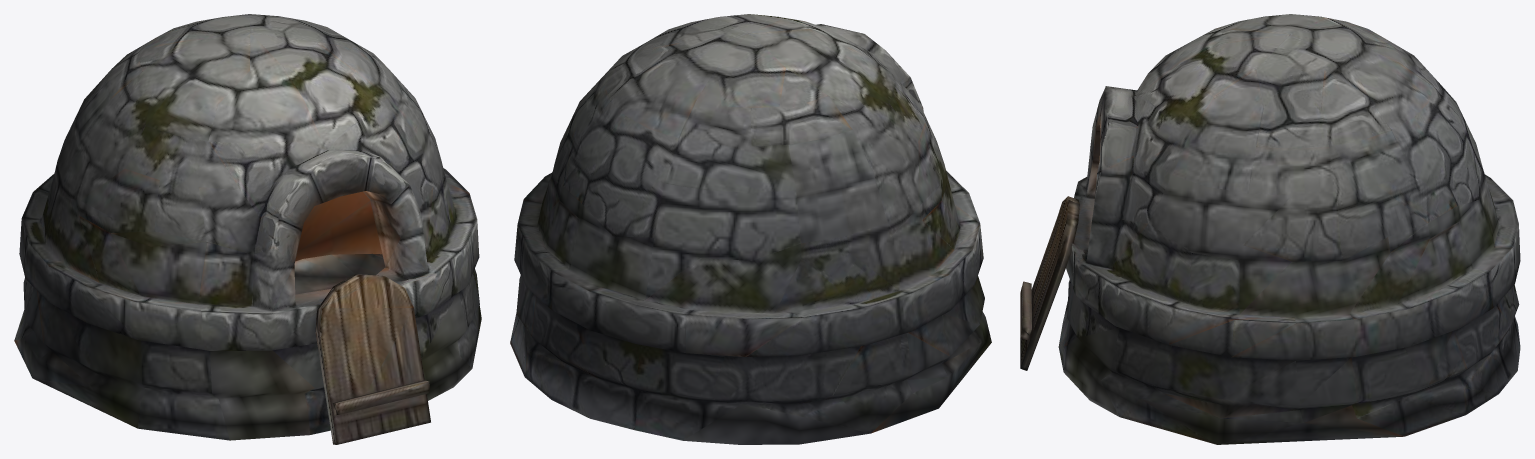
The model's file is mu-four-semis.glb.
3 renders of one model, left to right at view 1: azimuth 30°, elevation 25°; view 2: azimuth 150°, elevation 25°; view 3: azimuth 270°, elevation 25°, orthographic.
Parts seen in each view (by area): view 1: mu-four-semis; view 2: mu-four-semis; view 3: mu-four-semis.
Part boxes in pixels (box(x1,y1,x2,y2)): mu-four-semis: box(14, 14, 481, 444); mu-four-semis: box(510, 14, 991, 444); mu-four-semis: box(1020, 14, 1520, 444).
Size of the model in its own units: 1.91 by 1.39 by 2.
1 material, 1 textured.
